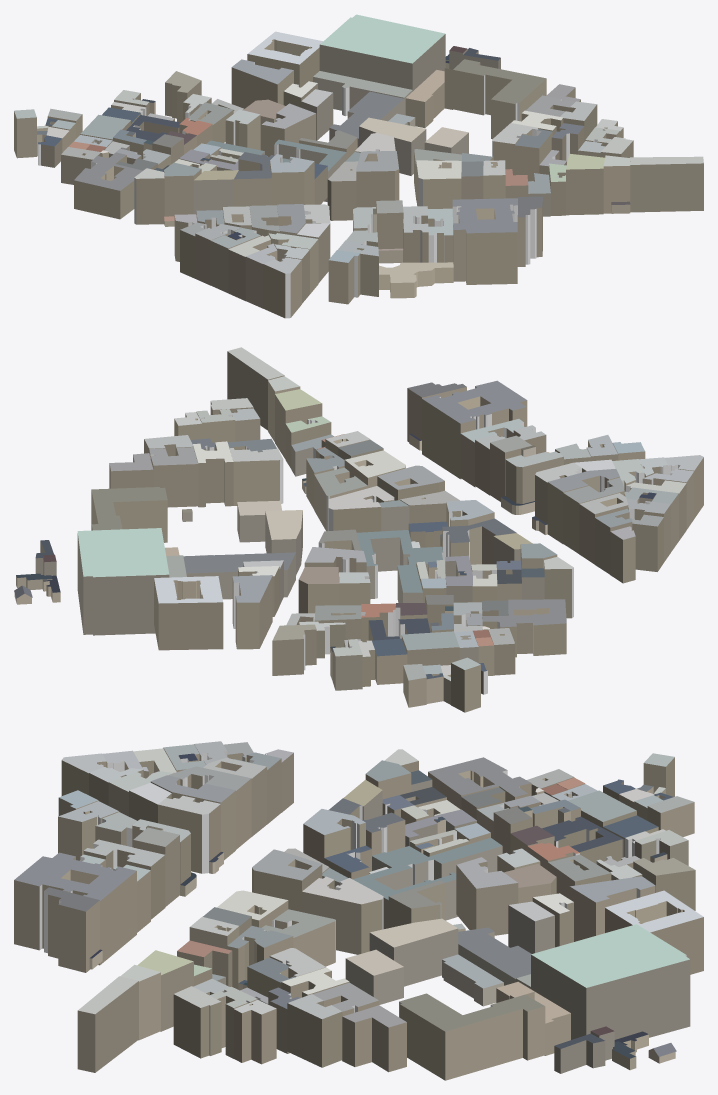
3 views of the same model, one above another, from view 1: azimuth 30°, elevation 25°; view 2: azimuth 150°, elevation 25°; view 3: azimuth 270°, elevation 25° (orthographic). The views are drawn at different scales.
Visible parts, largest first — view 1: tuile; view 2: tuile; view 3: tuile.
Part boxes in pixels (x1,y1,x2,y2): tuile: (14,14,703,318); tuile: (14,347,703,712); tuile: (14,741,703,1080).
Bounding box in the file's own units: 279 × 36.51 × 285.
